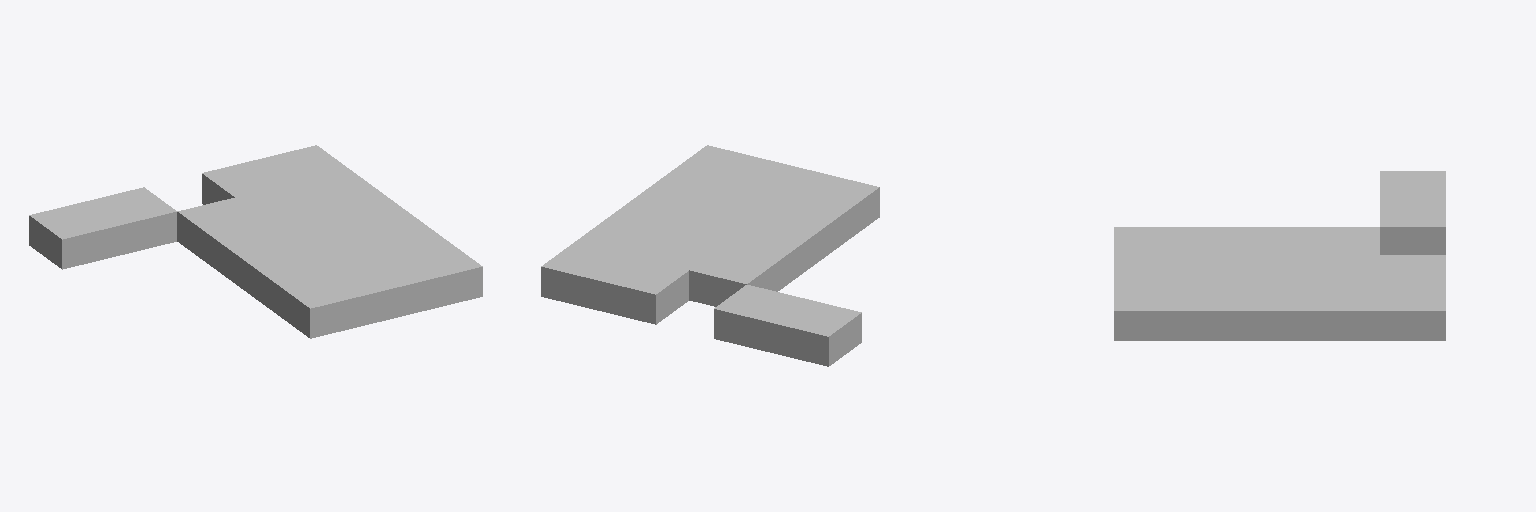
The model's file is 63s_block.obj.
3 renders of one model, left to right at view 1: azimuth 30°, elevation 25°; view 2: azimuth 150°, elevation 25°; view 3: azimuth 270°, elevation 25°, orthographic.
Visible parts, largest first — view 1: block.2.0_block.4661, block.0.4_block.4659, block.4.0_block.4671, block.1.4_block.4660, block.3.0_block.4666, block.2.3_block.4664, block.2.1_block.4662, block.2.2_block.4663, block.3.4_block.4670, block.4.3_block.4674, block.3.2_block.4668, block.4.1_block.4672 (+4 smaller); view 2: block.0.4_block.4659, block.3.4_block.4670, block.2.3_block.4664, block.4.4_block.4675, block.1.4_block.4660, block.2.1_block.4662, block.2.0_block.4661, block.2.2_block.4663, block.4.1_block.4672, block.3.2_block.4668, block.4.3_block.4674, block.3.0_block.4666 (+4 smaller); view 3: block.4.1_block.4672, block.4.3_block.4674, block.4.0_block.4671, block.4.2_block.4673, block.4.4_block.4675, block.1.4_block.4660, block.2.1_block.4662, block.2.3_block.4664, block.3.1_block.4667, block.3.3_block.4669, block.0.4_block.4659, block.2.0_block.4661 (+4 smaller).
Part boxes in pixels (x1,y1,x2,y2): block.2.0_block.4661: (277, 270, 367, 338); block.0.4_block.4659: (29, 201, 119, 269); block.4.0_block.4671: (392, 242, 482, 310); block.1.4_block.4660: (87, 187, 176, 254); block.3.0_block.4666: (335, 257, 424, 324); block.2.3_block.4664: (177, 198, 267, 265); block.2.1_block.4662: (244, 246, 333, 313); block.2.2_block.4663: (211, 222, 300, 289); block.3.4_block.4670: (202, 159, 291, 204); block.4.3_block.4674: (293, 169, 382, 207); block.3.2_block.4668: (269, 208, 357, 245); block.4.1_block.4672: (360, 218, 448, 255); block.0.4_block.4659: (771, 298, 861, 366); block.3.4_block.4670: (599, 257, 688, 324); block.2.3_block.4664: (689, 246, 779, 306); block.4.4_block.4675: (541, 242, 631, 310); block.1.4_block.4660: (714, 285, 803, 352); block.2.1_block.4662: (756, 198, 846, 265); block.2.0_block.4661: (789, 173, 879, 240); block.2.2_block.4663: (723, 222, 812, 289); block.4.1_block.4672: (641, 169, 730, 207); block.3.2_block.4668: (666, 208, 754, 245); block.4.3_block.4674: (575, 218, 663, 255); block.3.0_block.4666: (732, 159, 821, 196); block.4.1_block.4672: (1180, 283, 1246, 340); block.4.3_block.4674: (1313, 283, 1379, 340); block.4.0_block.4671: (1114, 283, 1179, 340); block.4.2_block.4673: (1247, 283, 1312, 340); block.4.4_block.4675: (1380, 283, 1445, 340); block.1.4_block.4660: (1380, 199, 1445, 254); block.2.1_block.4662: (1180, 227, 1246, 254); block.2.3_block.4664: (1313, 227, 1379, 254); block.3.1_block.4667: (1180, 255, 1246, 282); block.3.3_block.4669: (1313, 255, 1379, 282); block.0.4_block.4659: (1380, 171, 1445, 198); block.2.0_block.4661: (1114, 227, 1179, 254).
Size of the model in its own units: 10 by 1 by 10.